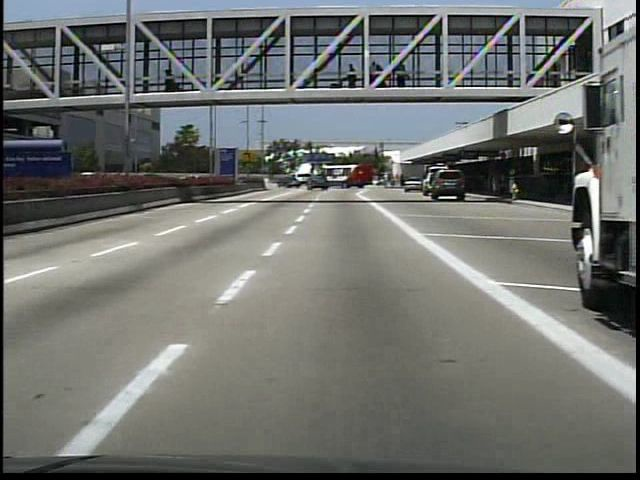person: (343, 59, 361, 93), (162, 67, 181, 95), (488, 169, 504, 200)
